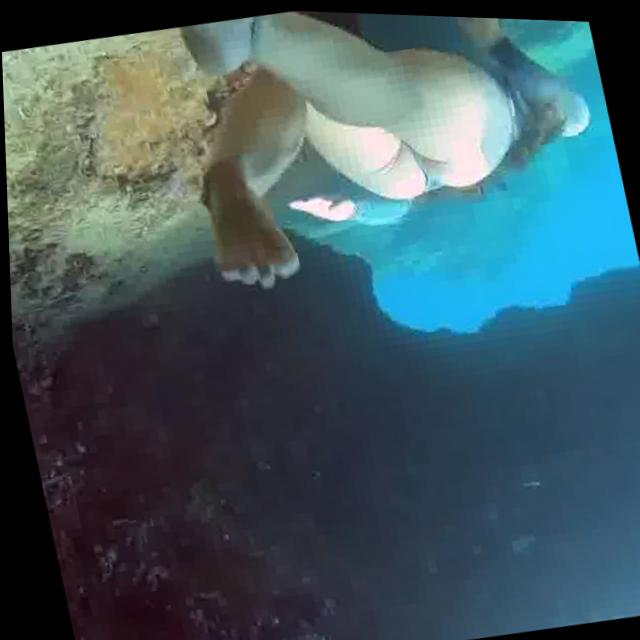human: (124, 4, 631, 370)
